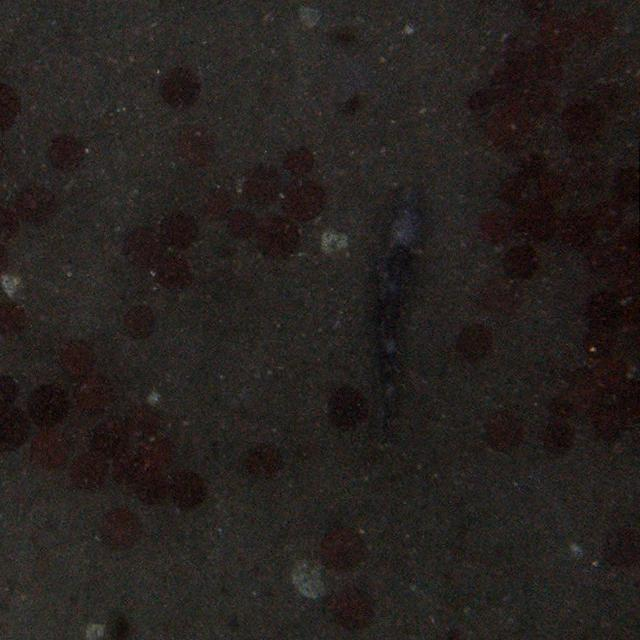roundfish: (366, 183, 420, 424)
